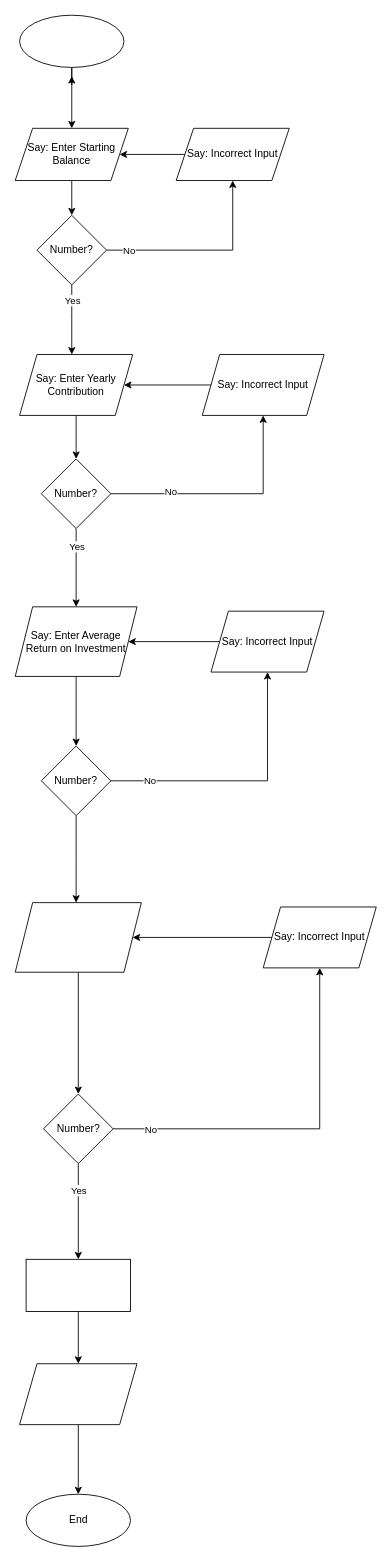
Some shapes in this 392 by 1562 pixel diagram are drawn without their labels. Here are the shapes that lost their labels. From the top down, the box of each, then its label:
(19, 14, 124, 67): Start
(14, 902, 141, 972): Say: Enter Number of Years Held
(25, 1258, 130, 1312): Calculate the funds for the specified number of years.
(19, 1363, 137, 1425): Print the Years and Funds
